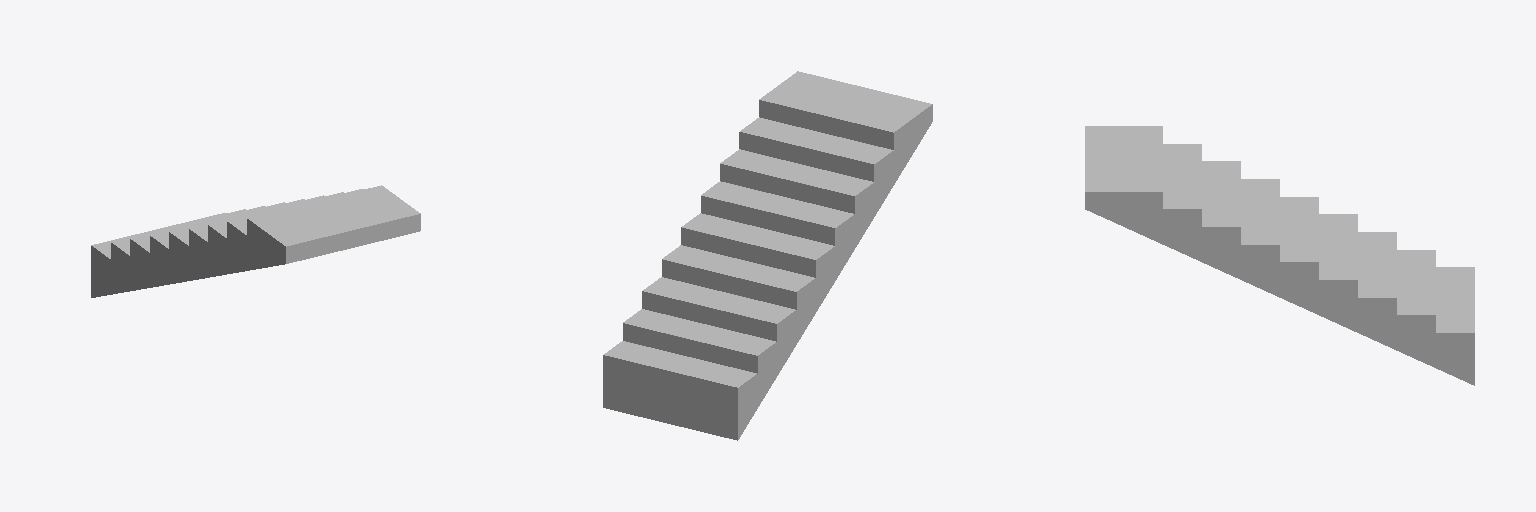
Rendered from Stairs (20).obj.
3 views of the same model, side by side, from view 1: azimuth 30°, elevation 25°; view 2: azimuth 150°, elevation 25°; view 3: azimuth 270°, elevation 25° (orthographic).
Visible parts, largest first — view 1: Stairs (20); view 2: Stairs (20); view 3: Stairs (20).
Boxes of the visible parts, x1=… form: Stairs (20): x1=91, y1=185, x2=420, y2=297; Stairs (20): x1=603, y1=71, x2=932, y2=440; Stairs (20): x1=1085, y1=126, x2=1474, y2=385.
Size of the model in its own units: 2 by 2.75 by 5.